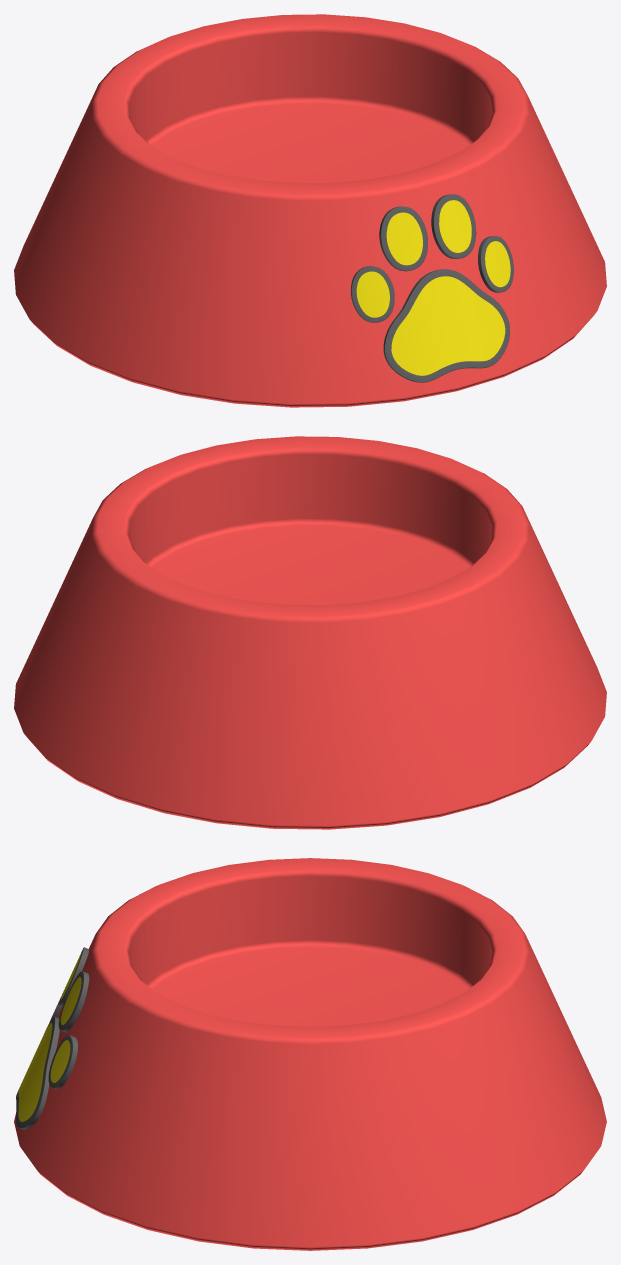
Rendered from Store_11_Animal_Bowl_3.glb.
The picture shows the model from 3 angles, top to bottom: view 1: azimuth 30°, elevation 25°; view 2: azimuth 150°, elevation 25°; view 3: azimuth 270°, elevation 25°; orthographic projection.
Visible parts, largest first — view 1: Store_11_Animal_Bowl_3; view 2: Store_11_Animal_Bowl_3; view 3: Store_11_Animal_Bowl_3.
Boxes of the visible parts, x1,y1,x2,y2 form: Store_11_Animal_Bowl_3: (14,14,606,407); Store_11_Animal_Bowl_3: (14,436,606,829); Store_11_Animal_Bowl_3: (14,858,606,1250).
Bounding box in the file's own units: 1.42 × 0.4731 × 1.42.
Materials: 1 (1 with a texture image).
